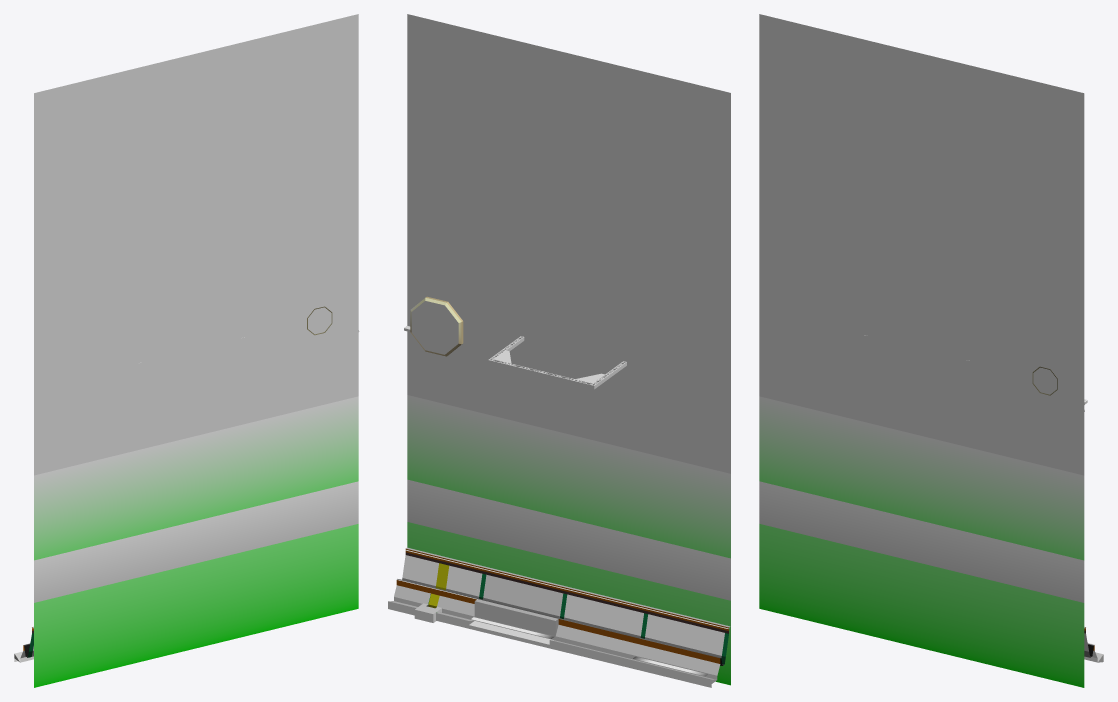
File: stage v2.dae
3 views of the same model, side by side, from view 1: azimuth 30°, elevation 25°; view 2: azimuth 150°, elevation 25°; view 3: azimuth 330°, elevation 25° (orthographic).
Parts seen in each view (by area): view 1: JOBJ_0_DOBJ_35, JOBJ_0_DOBJ_38, JOBJ_0_DOBJ_39, JOBJ_0_DOBJ_37; view 2: JOBJ_0_DOBJ_35, JOBJ_0_DOBJ_38, JOBJ_0_DOBJ_39, JOBJ_0_DOBJ_20, JOBJ_0_DOBJ_25, JOBJ_0_DOBJ_15, JOBJ_0_DOBJ_22, JOBJ_0_DOBJ_17, JOBJ_0_DOBJ_4, JOBJ_2_DOBJ_1, JOBJ_0_DOBJ_12, JOBJ_0_DOBJ_7 (+3 smaller); view 3: JOBJ_0_DOBJ_35, JOBJ_0_DOBJ_38, JOBJ_0_DOBJ_39, JOBJ_0_DOBJ_37.
Boxes of the visible parts, box(x1,y1,x2,y2) form: JOBJ_0_DOBJ_35: box(34, 14, 358, 475); JOBJ_0_DOBJ_38: box(34, 396, 358, 687); JOBJ_0_DOBJ_39: box(34, 481, 358, 602); JOBJ_0_DOBJ_37: box(298, 295, 350, 354); JOBJ_0_DOBJ_35: box(407, 14, 730, 473); JOBJ_0_DOBJ_38: box(407, 395, 730, 685); JOBJ_0_DOBJ_39: box(407, 479, 730, 600); JOBJ_0_DOBJ_20: box(636, 614, 724, 675); JOBJ_0_DOBJ_25: box(556, 594, 643, 655); JOBJ_0_DOBJ_15: box(394, 555, 482, 616); JOBJ_0_DOBJ_22: box(549, 588, 648, 667); JOBJ_0_DOBJ_17: box(630, 608, 728, 687); JOBJ_0_DOBJ_4: box(483, 574, 563, 617); JOBJ_2_DOBJ_1: box(411, 301, 458, 354); JOBJ_0_DOBJ_12: box(388, 549, 486, 628); JOBJ_0_DOBJ_7: box(474, 601, 555, 640); JOBJ_0_DOBJ_35: box(759, 14, 1084, 475); JOBJ_0_DOBJ_38: box(759, 396, 1084, 687); JOBJ_0_DOBJ_39: box(759, 481, 1084, 602); JOBJ_0_DOBJ_37: box(1023, 357, 1075, 417).
Bounding box in the file's own units: 642 × 112 × 1120.
